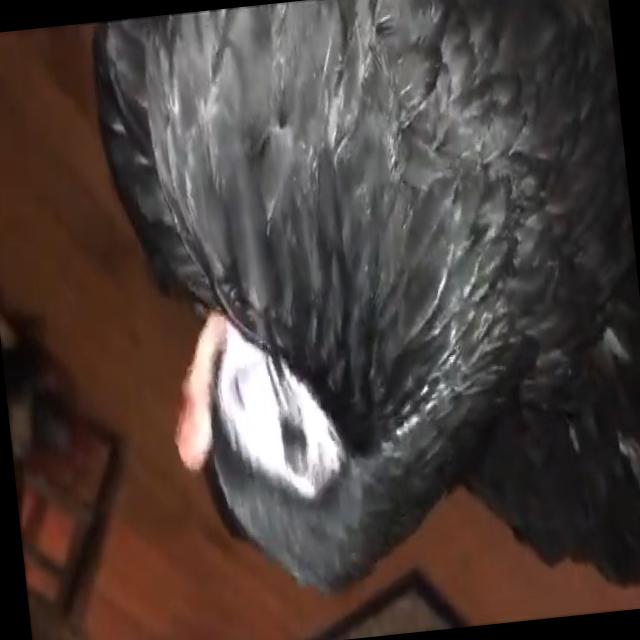self preening: (92, 0, 640, 640)
